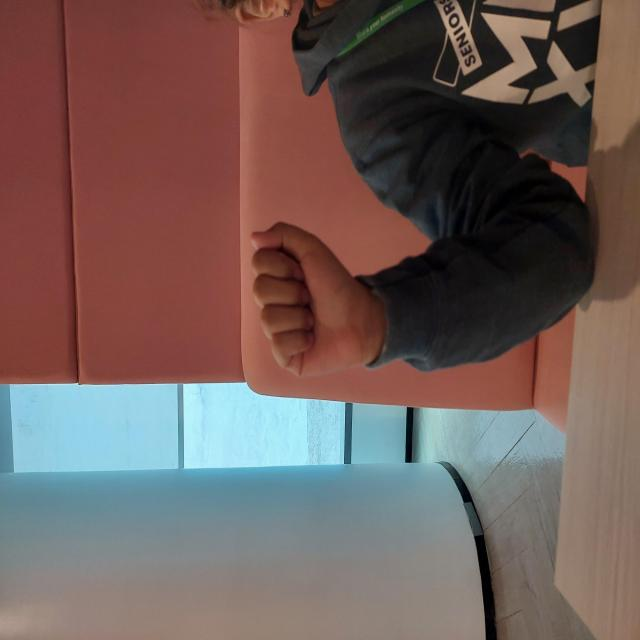A: (259, 247, 421, 375)
